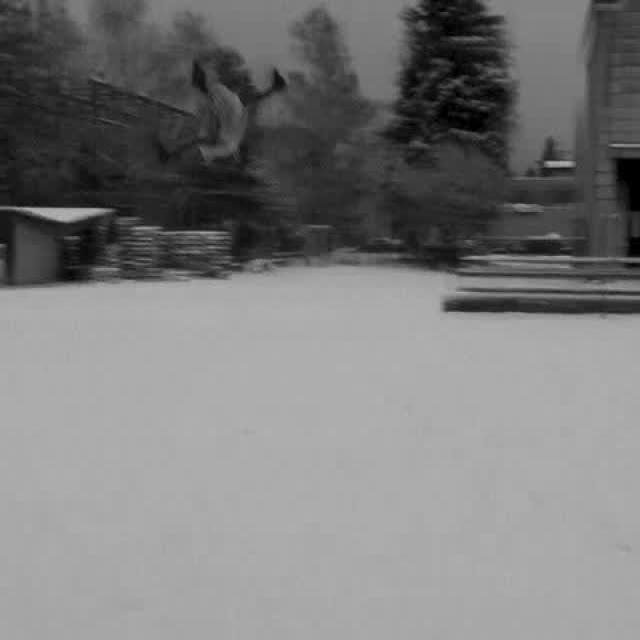drone: (148, 41, 294, 180)
